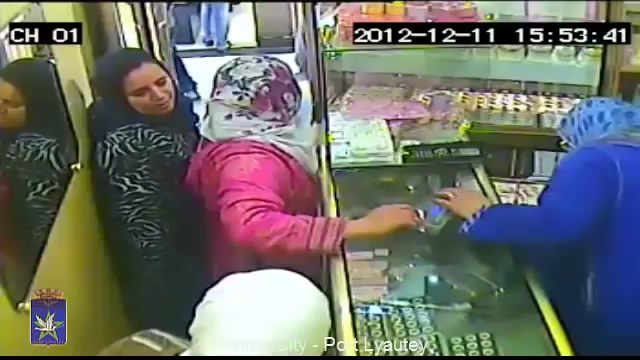face: (123, 72, 175, 115), (0, 82, 25, 127)
